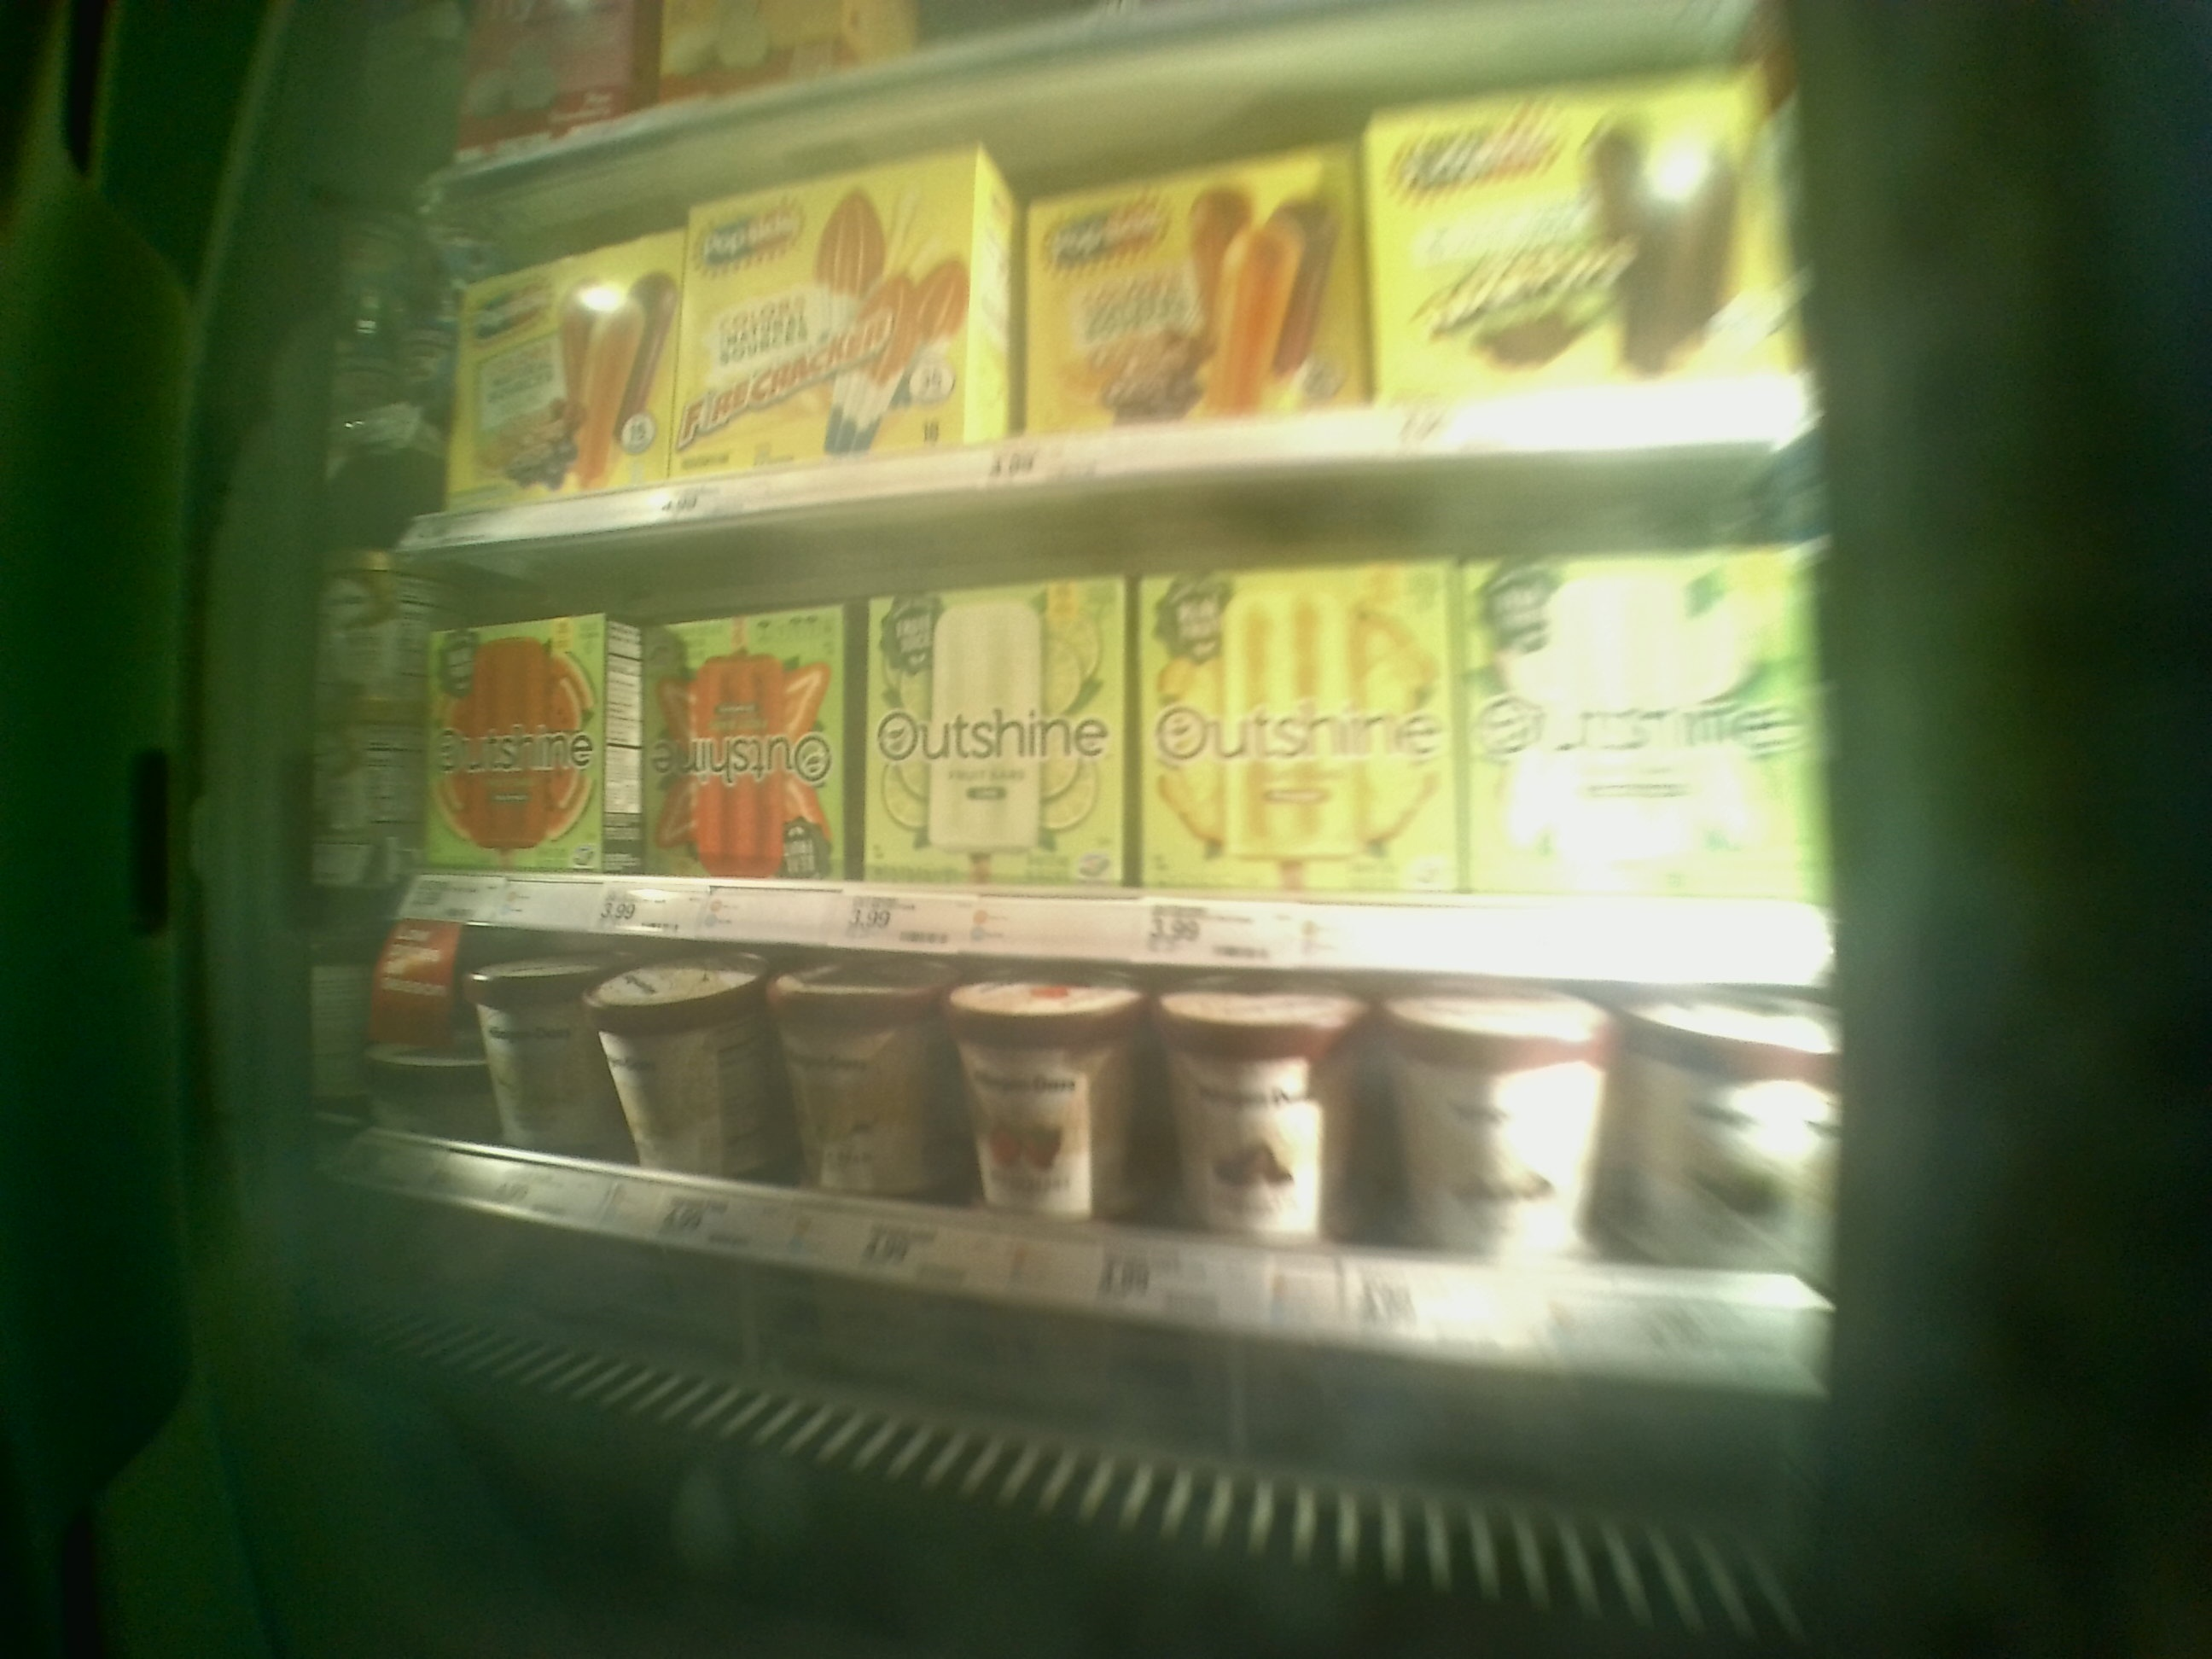shelf: (404, 437, 1829, 979), (399, 929, 1839, 1401)
